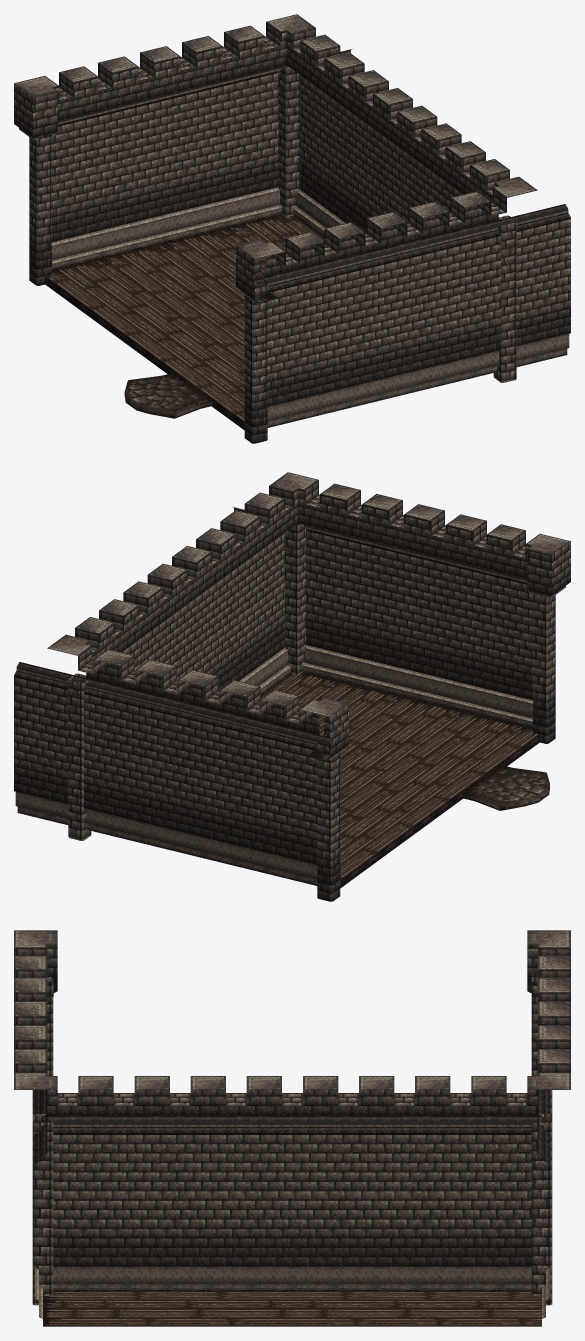
Rendered from EnvBdgMD_Sea_B_Indoor_Station_A.FBX.
3 views of the same model, one above another, from view 1: azimuth 30°, elevation 25°; view 2: azimuth 150°, elevation 25°; view 3: azimuth 270°, elevation 25° (orthographic). The views are drawn at different scales.
Visible parts, largest first — view 1: EnvBdgMD_Sea_B_Indoor_Station_A; view 2: EnvBdgMD_Sea_B_Indoor_Station_A; view 3: EnvBdgMD_Sea_B_Indoor_Station_A.
Boxes of the visible parts, left/top/right/bottom form: EnvBdgMD_Sea_B_Indoor_Station_A: left=14, top=14, right=570, bottom=443; EnvBdgMD_Sea_B_Indoor_Station_A: left=14, top=472, right=570, bottom=901; EnvBdgMD_Sea_B_Indoor_Station_A: left=14, top=930, right=570, bottom=1326.
Bounding box in the file's own units: 1200 × 590 × 1340.
1 material, 1 textured.
